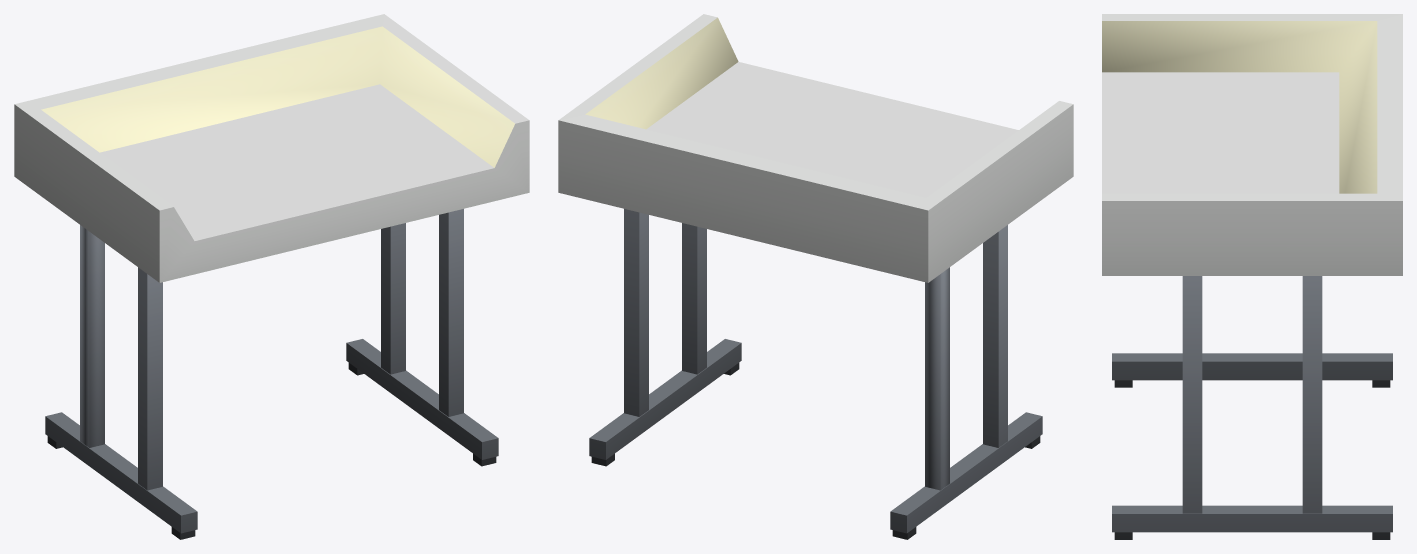
File: FoldingTable_S_Laundromat.fbx
3 views of the same model, side by side, from view 1: azimuth 30°, elevation 25°; view 2: azimuth 150°, elevation 25°; view 3: azimuth 270°, elevation 25° (orthographic). The views are drawn at different scales.
Parts seen in each view (by area): view 1: FoldingTable_S.Laundromat; view 2: FoldingTable_S.Laundromat; view 3: FoldingTable_S.Laundromat.
Boxes of the visible parts, left/top/right/bottom form: FoldingTable_S.Laundromat: left=14, top=14, right=529, bottom=539; FoldingTable_S.Laundromat: left=558, top=14, right=1073, bottom=539; FoldingTable_S.Laundromat: left=1102, top=14, right=1402, bottom=539.
Size of the model in its own units: 125 by 110 by 85.
1 material, 1 textured.
